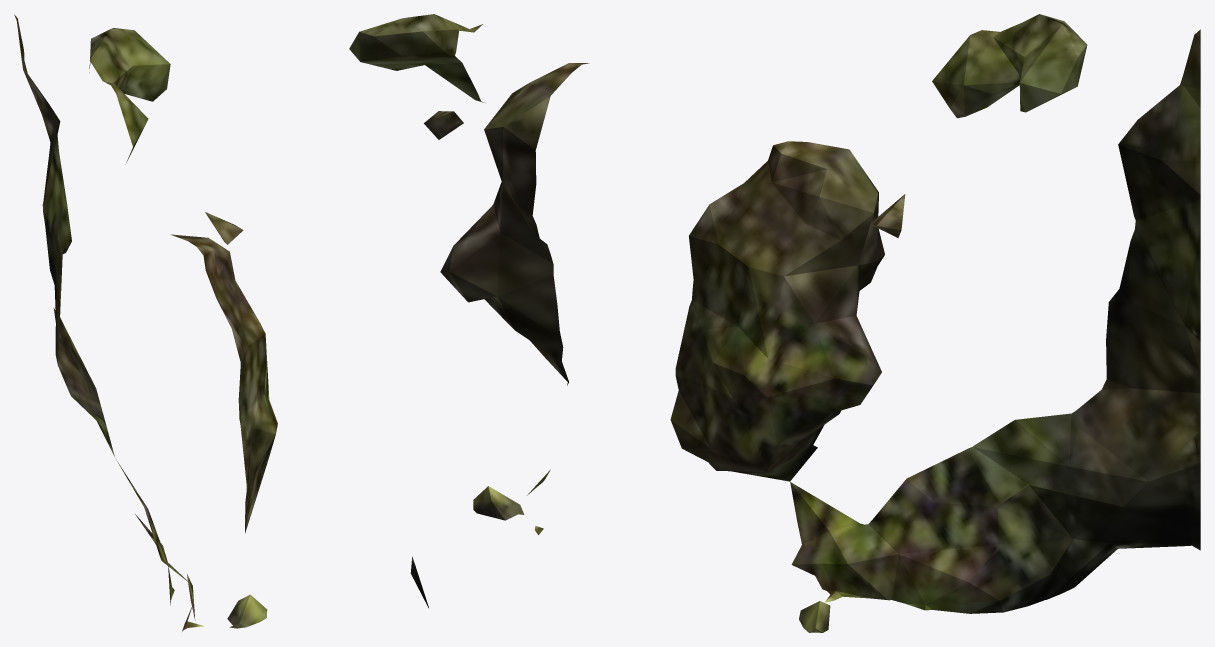
3 renders of one model, left to right at view 1: azimuth 30°, elevation 25°; view 2: azimuth 150°, elevation 25°; view 3: azimuth 270°, elevation 25°, orthographic. The views are drawn at different scales.
Size of the model in its own units: 0.1621 by 0.9125 by 0.7493.
1 material, 1 textured.
